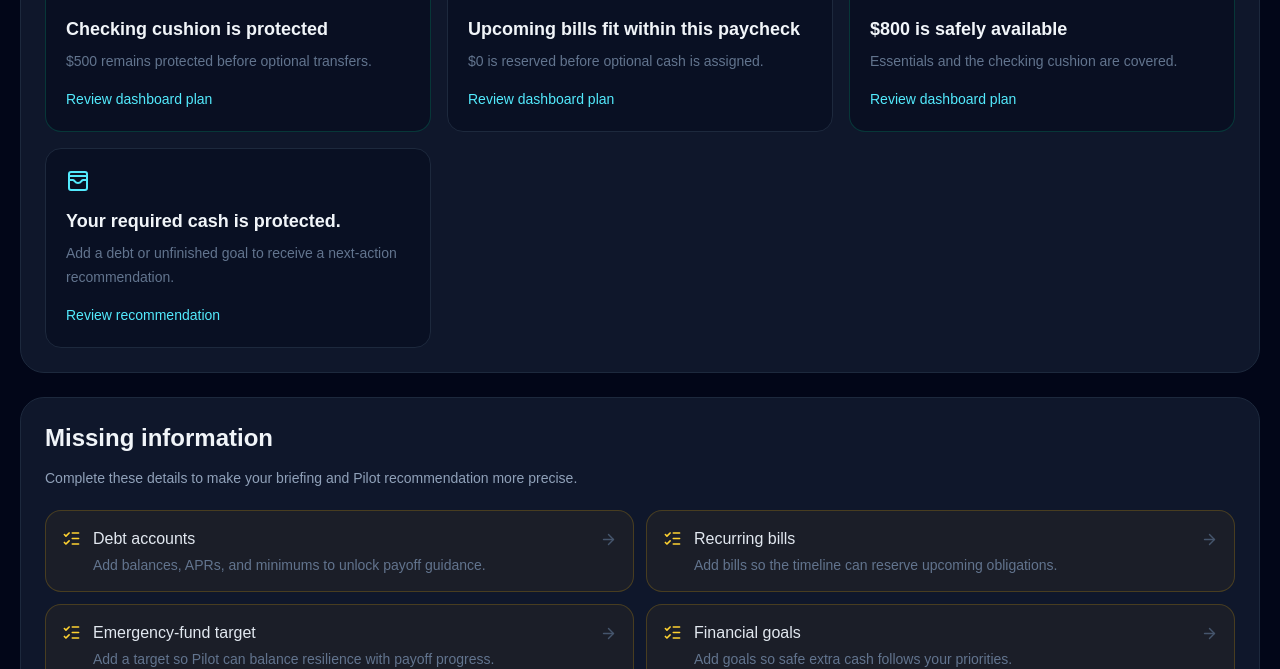
Test: Command Center page actions › opens, scrolls to, and focuses visible recommendation reasoning without navigating
(page scrolled)
Click the button "Review recommendation".
click(143, 315)  # box top-left (66, 305), bottom-right (220, 325)
(page scrolled)
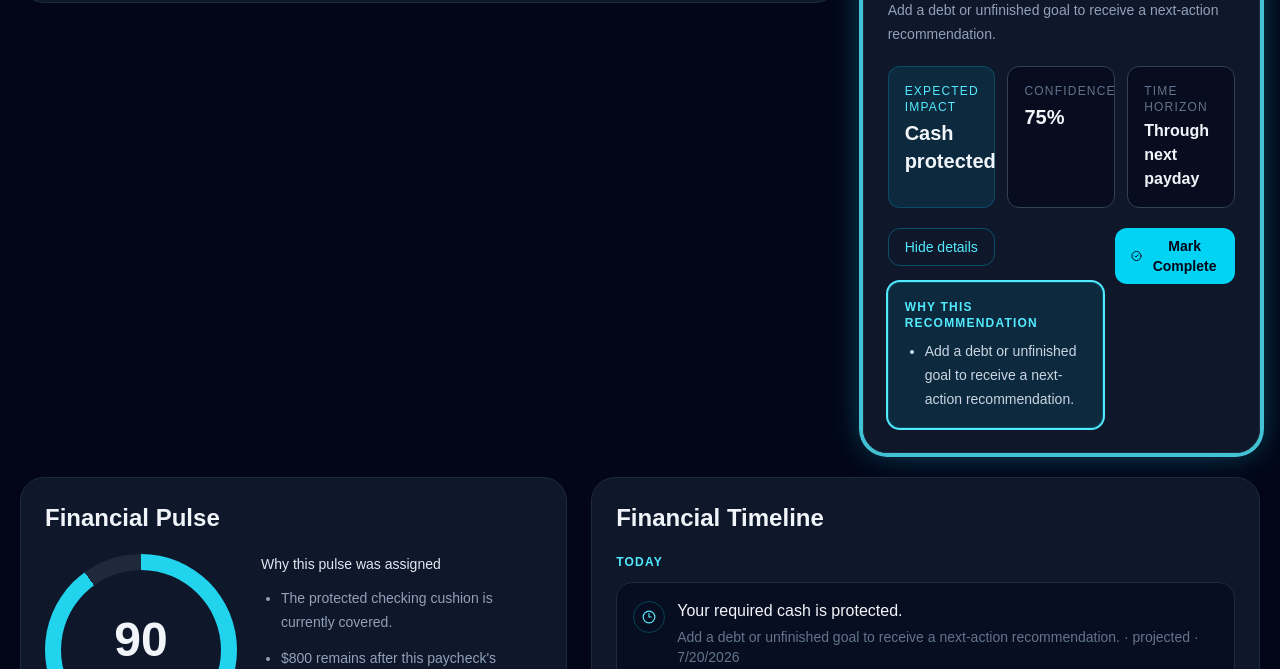
Now the text "Why this recommendation" is shown, box top-left (905, 300), bottom-right (1038, 330)
